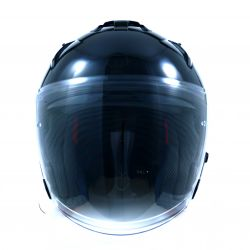with_helmet: (28, 16, 214, 237)
